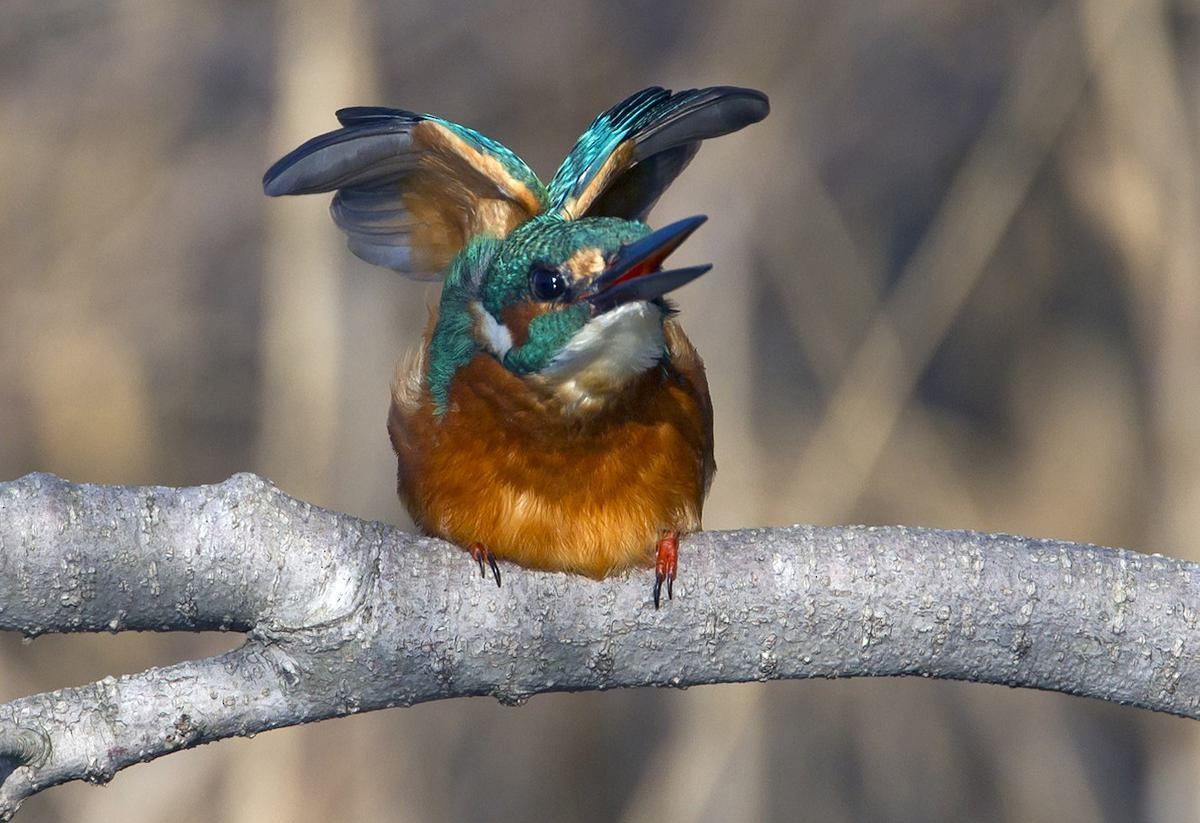kingfisher: (287, 69, 774, 611)
